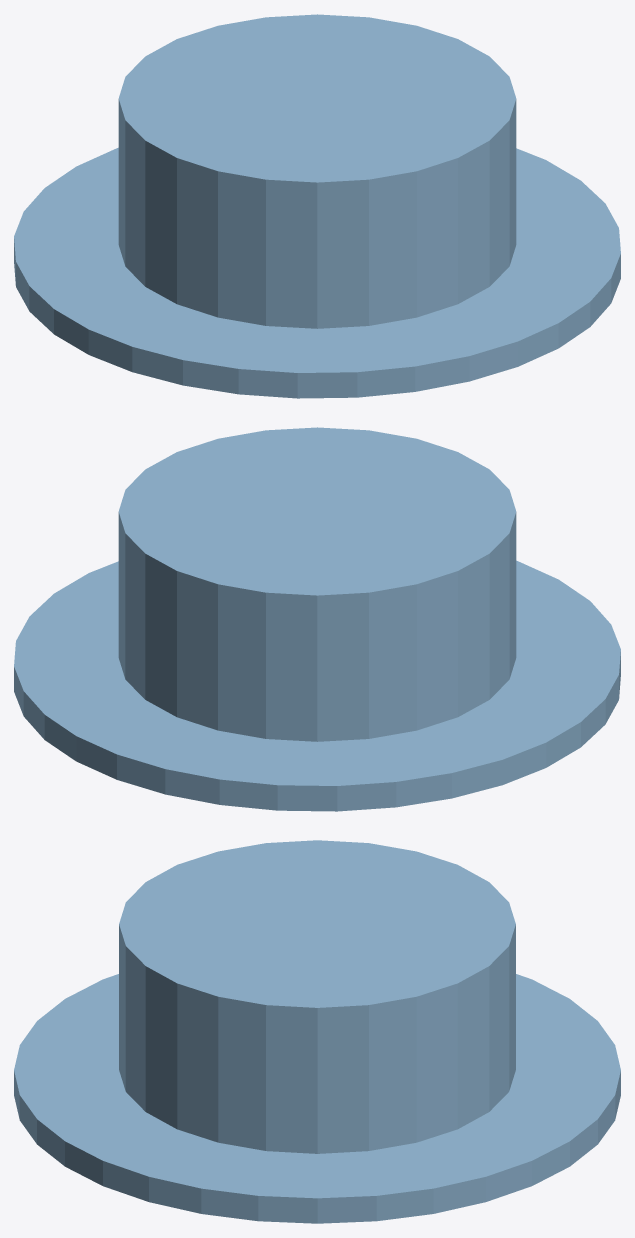
File: rsaf_ladies_hat_bg_me8_above.glb
3 renders of one model, top to bottom at view 1: azimuth 30°, elevation 25°; view 2: azimuth 150°, elevation 25°; view 3: azimuth 270°, elevation 25°, orthographic.
Visible parts, largest first — view 1: hat_crown, hat_brim; view 2: hat_crown, hat_brim; view 3: hat_crown, hat_brim.
Boxes of the visible parts, x1=… form: hat_crown: x1=118, y1=14, x2=516, y2=328; hat_brim: x1=14, y1=147, x2=620, y2=398; hat_crown: x1=118, y1=427, x2=516, y2=741; hat_brim: x1=14, y1=560, x2=620, y2=811; hat_crown: x1=119, y1=840, x2=515, y2=1153; hat_brim: x1=14, y1=974, x2=620, y2=1223.
Size of the model in its own units: 0.26 by 0.081 by 0.26.
